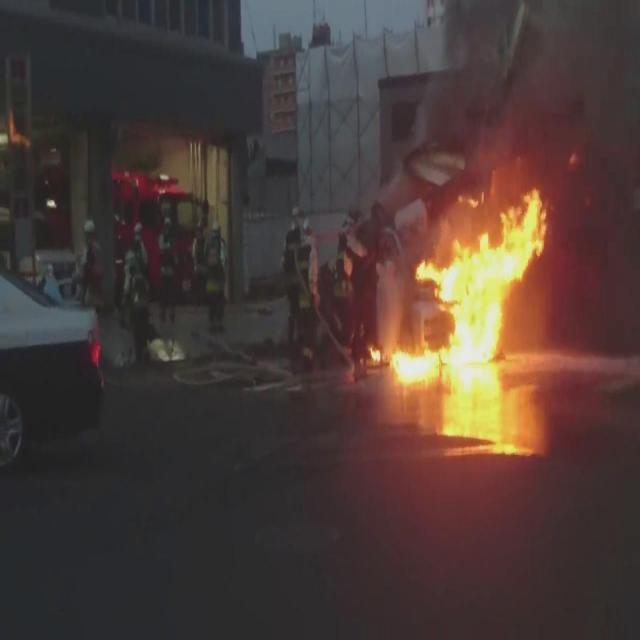Fire: (371, 192, 549, 374)
